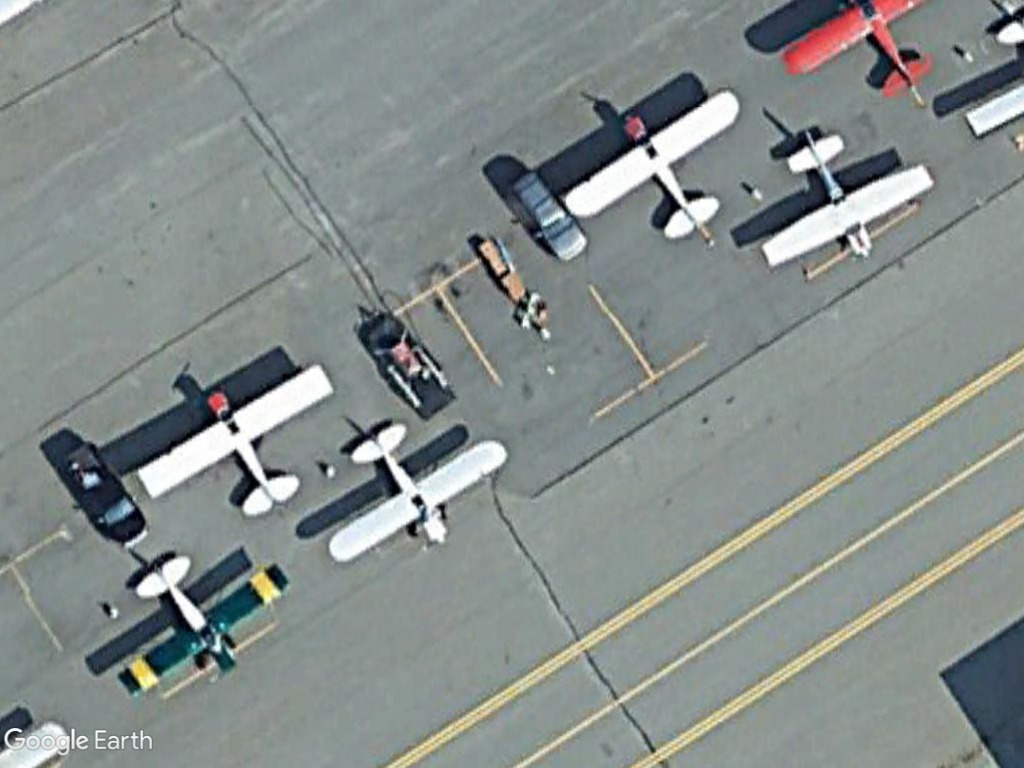trainer: (131, 357, 342, 527), (555, 73, 744, 244), (319, 408, 513, 570), (751, 115, 933, 273), (110, 546, 288, 707)
van: (503, 169, 593, 267)
